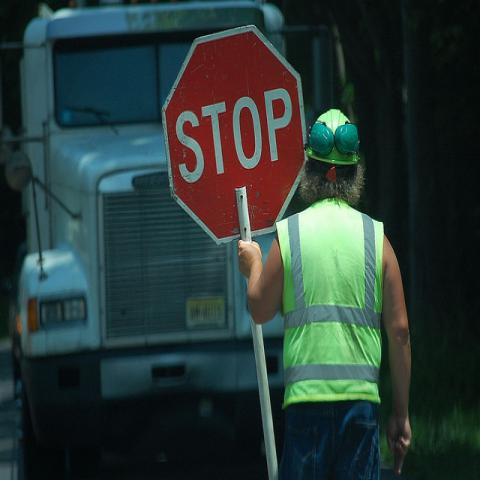truck: (17, 13, 278, 472)
